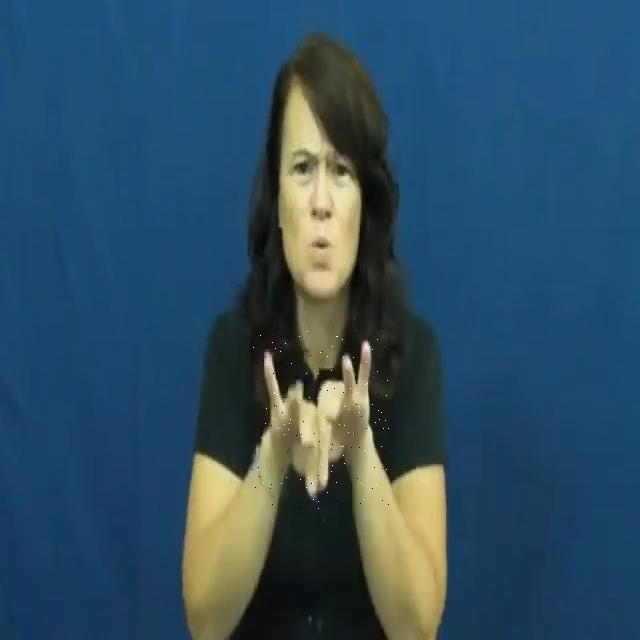urgent: (252, 326, 390, 510)
